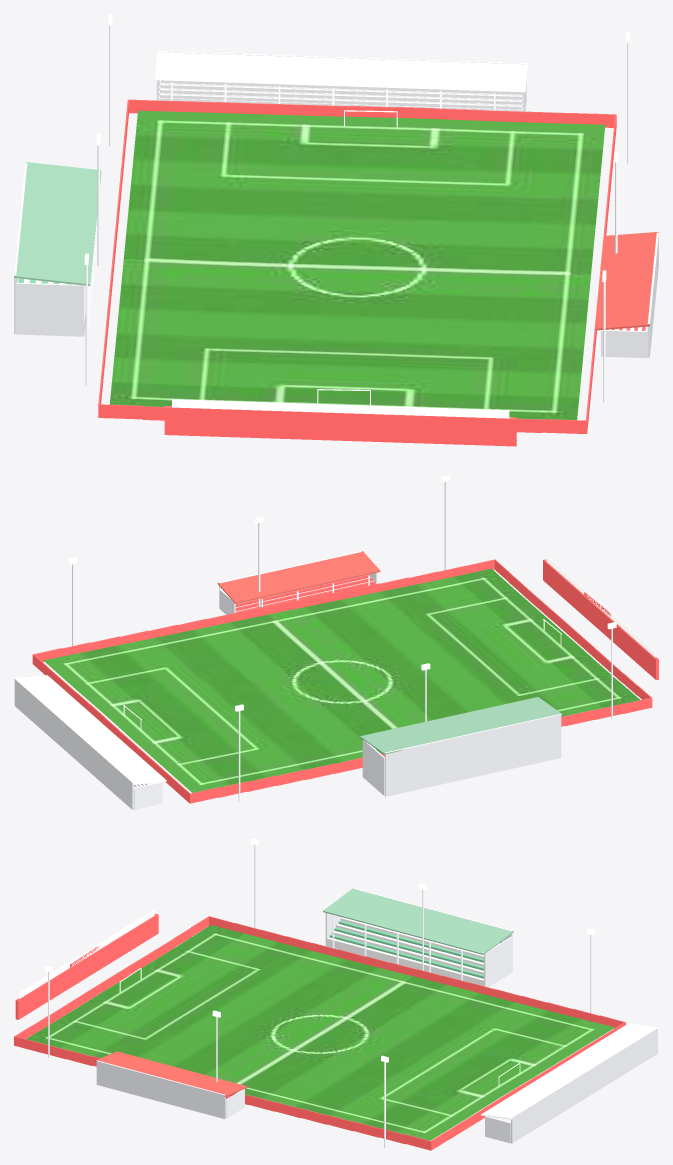
Rendered from victoria_ground.glb.
The picture shows the model from 3 angles, top to bottom: view 1: azimuth 30°, elevation 25°; view 2: azimuth 150°, elevation 25°; view 3: azimuth 270°, elevation 25°; orthographic projection. The views are drawn at different scales.
Visible parts, largest first — view 1: Pitch, NorthRoof, SouthWall, Barrier, MainRoof, NorthSeats, EastRoof, MainEnd, SouthBoard, EastEnd, NorthTier.005, NorthBack (+1 smaller); view 2: Pitch, Barrier, MainBack, MainRoof, NorthRoof, EastRoof, NorthBack, SouthWall, EastSeats, MainEnd.001, SouthBoard, NorthEnd; view 3: Pitch, Barrier, MainRoof, NorthBack, NorthRoof, EastBack, SouthWall, EastRoof, MainSeats, MainTier.005, MainEnd.001, SouthBoard (+4 smaller).
Boxes of the visible parts, box(x1,y1,x2,y2) form: Pitch: box(109, 110, 605, 419); NorthRoof: box(155, 51, 527, 92); SouthWall: box(164, 405, 516, 446); Barrier: box(98, 99, 616, 433); MainRoof: box(14, 162, 101, 285); NorthSeats: box(159, 80, 522, 109); EastRoof: box(595, 232, 658, 330); MainEnd: box(16, 282, 84, 336); SouthBoard: box(172, 399, 509, 418); EastEnd: box(601, 330, 647, 358); NorthTier.005: box(157, 95, 522, 111); NorthBack: box(159, 51, 525, 64); Pitch: box(43, 568, 639, 792); Barrier: box(32, 559, 652, 803); MainBack: box(385, 714, 561, 796); MainRoof: box(360, 697, 562, 754); NorthRoof: box(14, 675, 166, 784); EastRoof: box(217, 551, 380, 603); NorthBack: box(14, 678, 133, 809); SouthWall: box(543, 559, 658, 679); EastSeats: box(235, 574, 375, 612); MainEnd.001: box(362, 739, 385, 796); SouthBoard: box(546, 555, 656, 657); NorthEnd: box(134, 782, 162, 809); Pitch: box(26, 925, 614, 1140); Barrier: box(14, 916, 625, 1150); MainRoof: box(323, 888, 513, 954); NorthBack: box(511, 1027, 657, 1143); NorthRoof: box(481, 1023, 658, 1119); EastBack: box(96, 1060, 225, 1118); SouthWall: box(15, 913, 158, 1019); EastRoof: box(95, 1051, 247, 1096); MainSeats: box(329, 920, 504, 978); MainTier.005: box(327, 937, 483, 985); MainEnd.001: box(484, 936, 512, 987); SouthBoard: box(19, 910, 154, 998).
Bounding box in the file's own units: 108 × 20.46 × 127.
72 materials, 1 textured.
